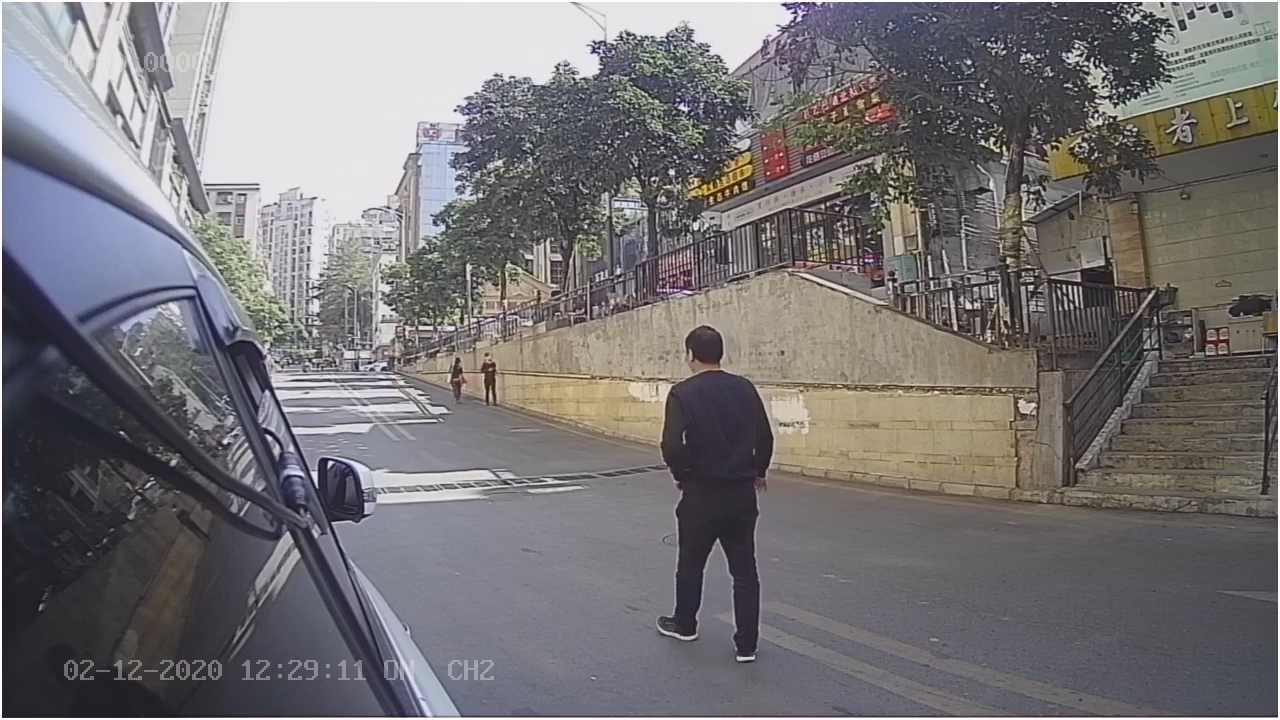person: (654, 317, 775, 663)
